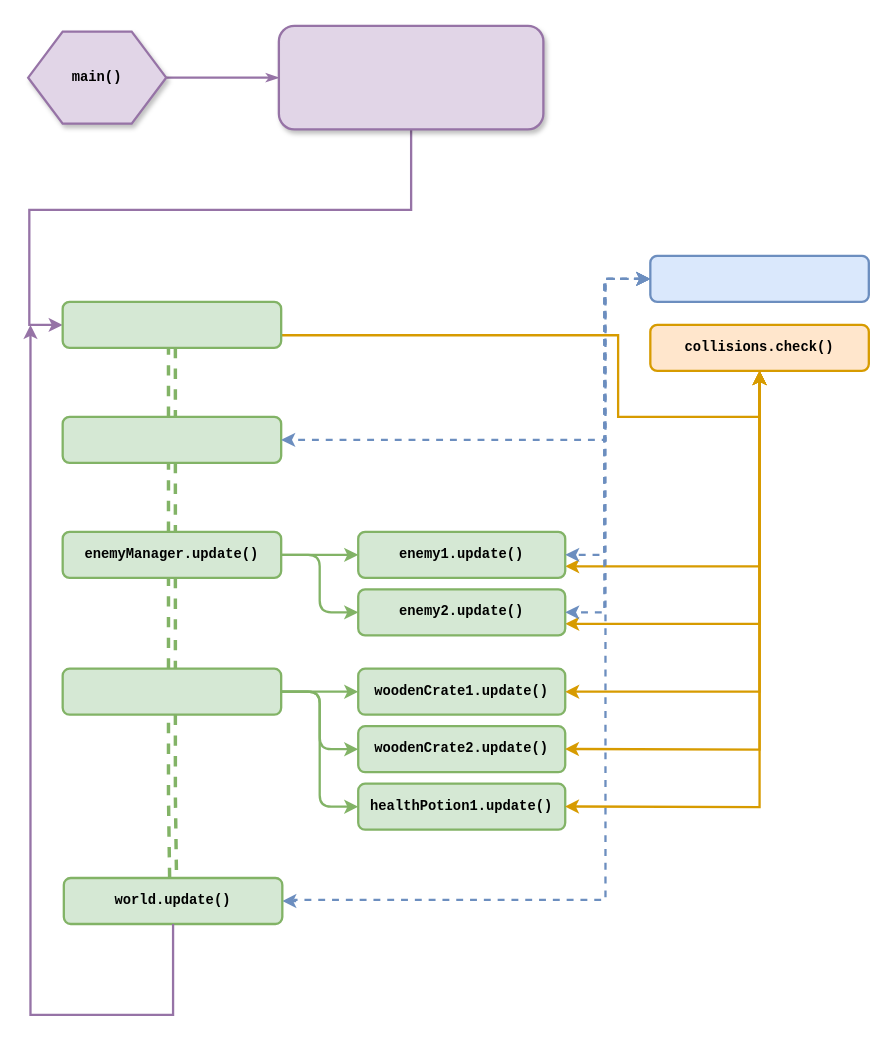
Some shapes in this 889 by 1044 pixel diagram are drawn without their labels. Here are the shapes that lost their labels. From the top down, the centre of each, then its label:
(x=412, y=79): MainController.update()
(x=759, y=278): keys.state()
(x=171, y=324): collisons.update()
(x=171, y=439): character.update()
(x=171, y=691): entityManager.update()
